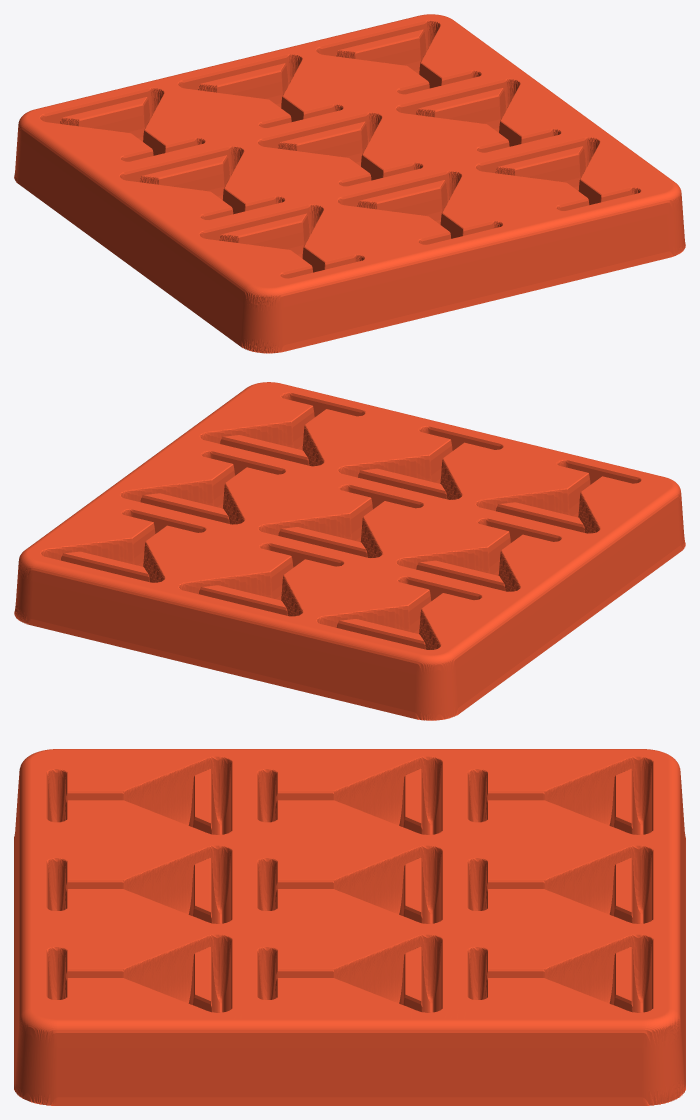
Rendered from mold.glb.
3 views of the same model, one above another, from view 1: azimuth 30°, elevation 25°; view 2: azimuth 150°, elevation 25°; view 3: azimuth 270°, elevation 25° (orthographic). The views are drawn at different scales.
Parts seen in each view (by area): view 1: geometry_0; view 2: geometry_0; view 3: geometry_0.
Part boxes in pixels (x1,y1,x2,y2): geometry_0: [14, 14, 685, 353]; geometry_0: [14, 382, 685, 720]; geometry_0: [14, 749, 685, 1105].
Bounding box in the file's own units: 0.1402 × 0.0182 × 0.1402.
